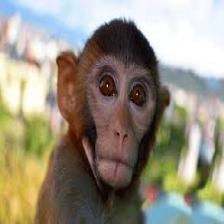monkey: (38, 19, 178, 224)
